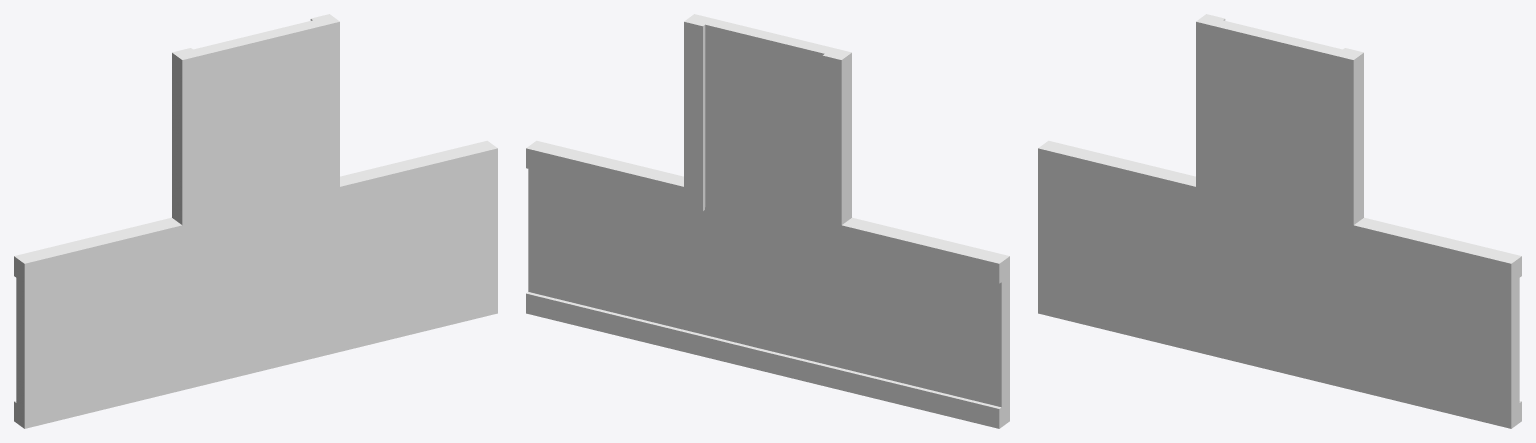
Rendered from venice_road_3.fbx.
3 views of the same model, side by side, from view 1: azimuth 30°, elevation 25°; view 2: azimuth 150°, elevation 25°; view 3: azimuth 330°, elevation 25° (orthographic).
Parts seen in each view (by area): view 1: Cube.296; view 2: Cube.296; view 3: Cube.296.
Boxes of the visible parts, x1,y1,x2,y2 form: Cube.296: [14, 14, 497, 428]; Cube.296: [526, 14, 1009, 428]; Cube.296: [1038, 14, 1521, 428].
Size of the model in its own units: 1651 by 1101 by 63.5.
